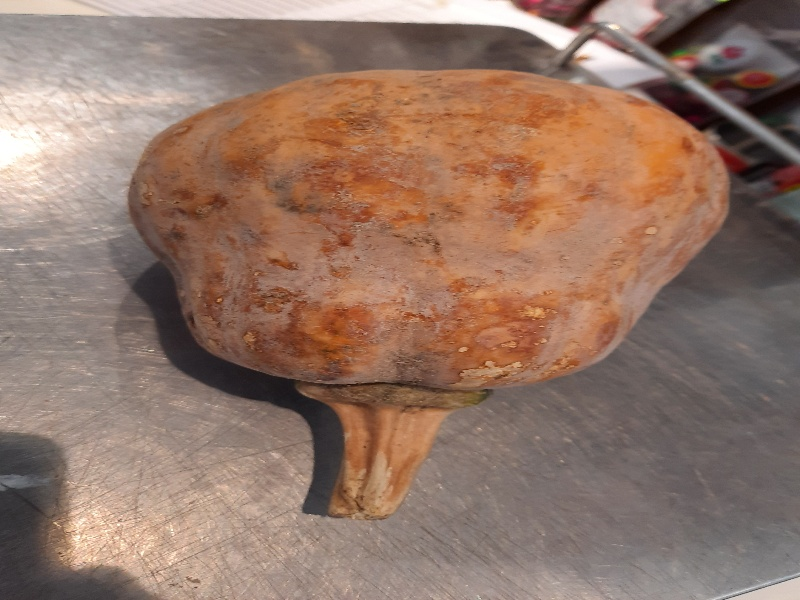vege: (122, 60, 730, 542)
